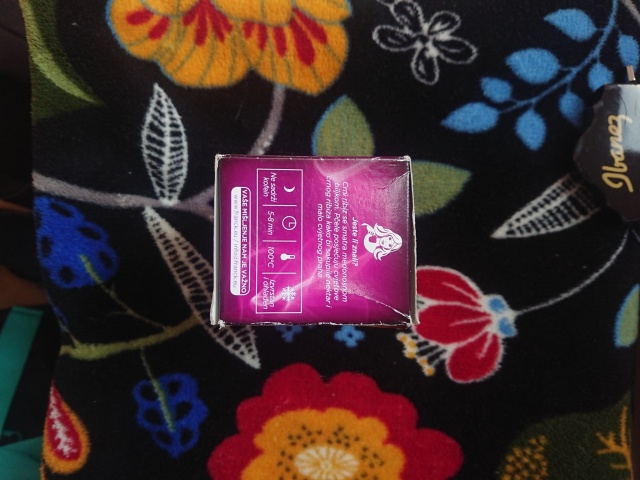Franck Black Currant Tea 60g: (207, 150, 423, 332)
